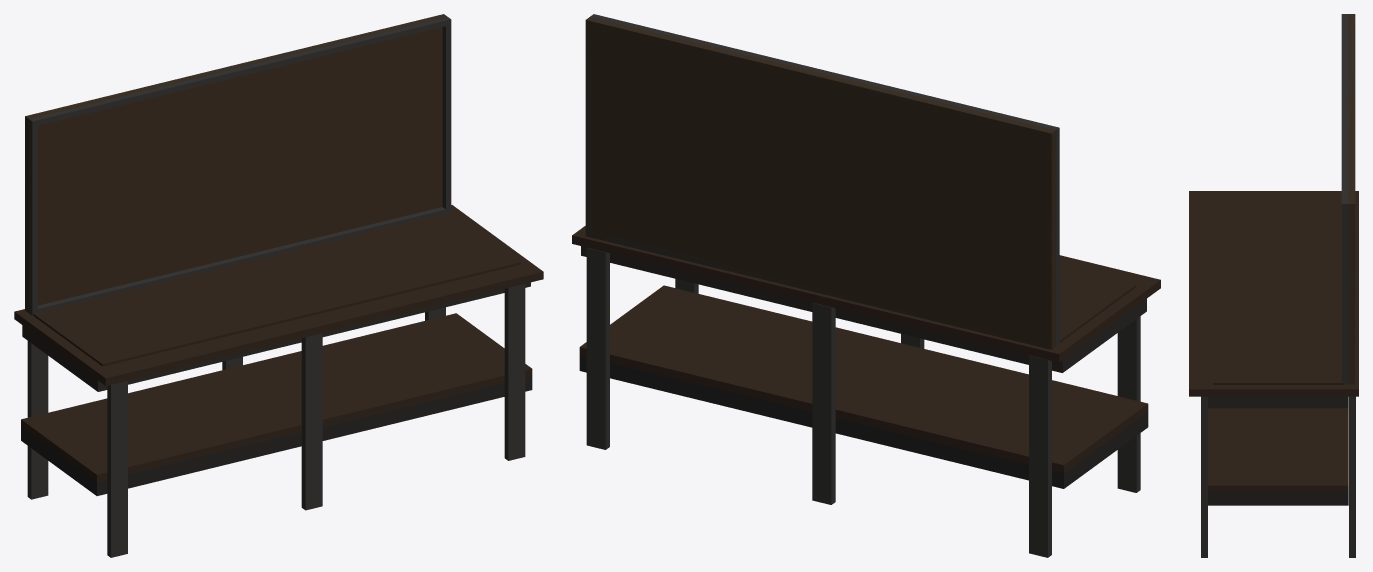
Rendered from workbench__b1b05331fe1e.glb.
The picture shows the model from 3 angles, left to right: view 1: azimuth 30°, elevation 25°; view 2: azimuth 150°, elevation 25°; view 3: azimuth 270°, elevation 25°; orthographic projection. The views are drawn at different scales.
Visible parts, largest first — view 1: panel_board, top_slab, shelf_board, panel_frame, shelf_apron, leg.003, leg.005, leg.001, apron, leg.002; view 2: panel_board, shelf_board, top_slab, panel_frame, shelf_apron, apron, leg.006, leg.004, leg.002, leg.001; view 3: top_slab, shelf_board, panel_frame, panel_board, shelf_apron, apron, leg.003, leg.004.
Part boxes in pixels (x1,y1,x2,y2): panel_board: (25, 14, 446, 312); top_slab: (14, 205, 543, 385); shelf_board: (21, 313, 532, 481); panel_frame: (25, 14, 451, 315); shelf_apron: (21, 376, 532, 495); leg.003: (504, 284, 525, 460); leg.005: (301, 333, 322, 510); leg.001: (107, 381, 127, 557); apron: (22, 282, 530, 391); leg.002: (27, 341, 48, 499); panel_board: (585, 17, 1055, 349); shelf_board: (579, 285, 1148, 473); top_slab: (572, 226, 1160, 362); panel_frame: (585, 14, 1059, 349); shelf_apron: (579, 355, 1148, 488); apron: (581, 246, 1146, 372); leg.006: (812, 302, 835, 504); leg.004: (586, 247, 609, 449); leg.002: (1029, 355, 1051, 557); leg.001: (1117, 316, 1140, 492); top_slab: (1189, 191, 1358, 396); shelf_board: (1208, 408, 1348, 492); panel_frame: (1341, 14, 1355, 384); panel_board: (1348, 14, 1355, 384); shelf_apron: (1208, 492, 1348, 505); apron: (1208, 396, 1348, 408); leg.003: (1201, 396, 1207, 557); leg.004: (1349, 396, 1355, 557).
Size of the model in its own units: 1.8 by 1.5 by 0.651.
